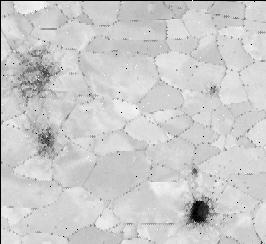good_void: (4, 45, 66, 104), (23, 115, 61, 159), (179, 189, 217, 229), (200, 80, 228, 99), (189, 163, 199, 179), (92, 134, 106, 143), (170, 65, 180, 73), (190, 62, 201, 69)
